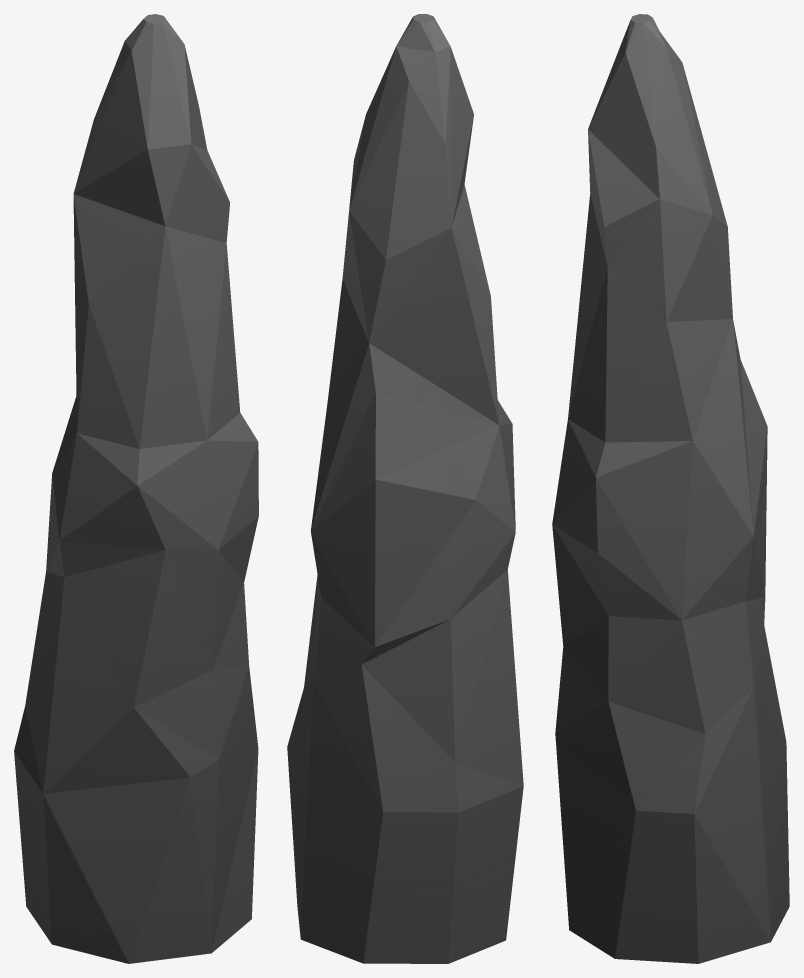
File: stalactite_A.glb
3 views of the same model, side by side, from view 1: azimuth 30°, elevation 25°; view 2: azimuth 150°, elevation 25°; view 3: azimuth 270°, elevation 25° (orthographic).
Visible parts, largest first — view 1: Cylinder.005; view 2: Cylinder.005; view 3: Cylinder.005.
Part boxes in pixels (x1,y1,x2,y2): Cylinder.005: (14, 14, 258, 963); Cylinder.005: (287, 14, 523, 963); Cylinder.005: (552, 14, 789, 963).
Bounding box in the file's own units: 0.4051 × 1.61 × 0.3848.
Materials: 1 (1 with a texture image).
